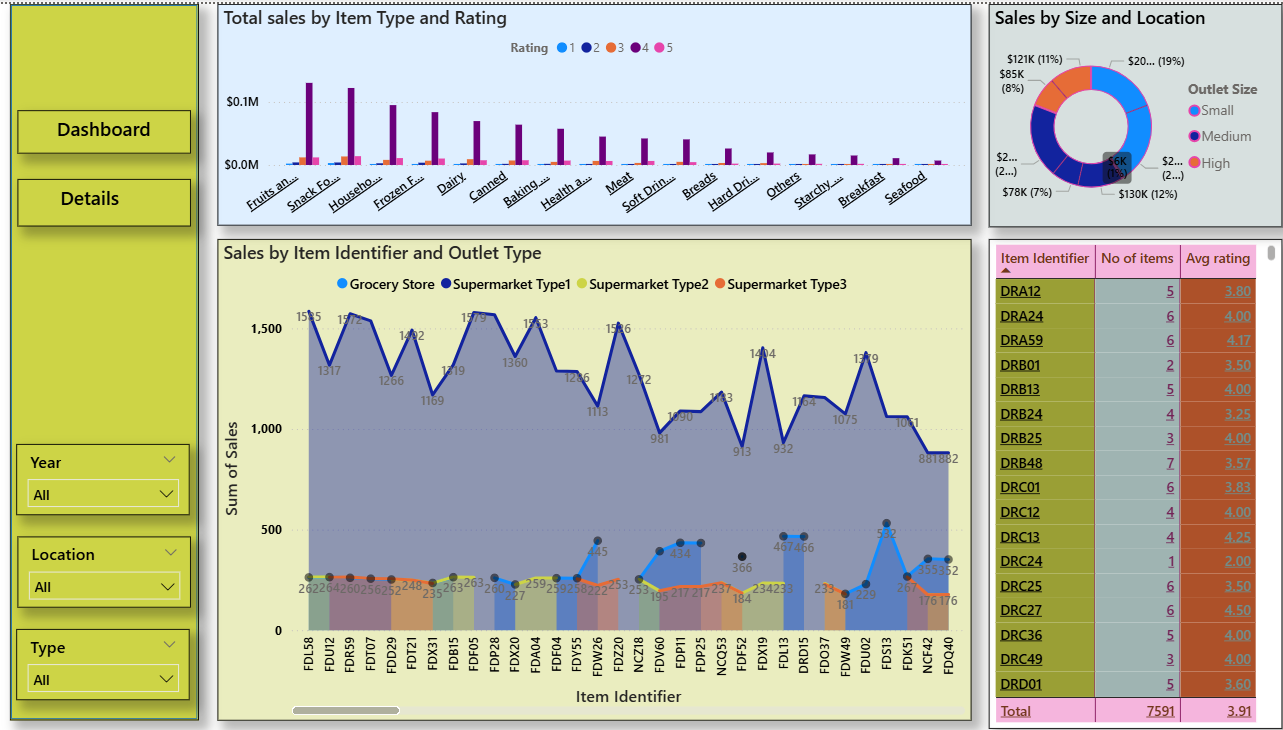

Layout of this report page (visuals, bound fields, positions):
{"tool":"powerbi","page":{"name":"Page 2","canvas":[1280,720],"ordinal":1},"visuals":[{"type":"shape","box":[9.8,0,184.6,700.7],"z":0},{"type":"clusteredColumnChart","fields":{"Y":["blinkit.Total sales"],"Category":["blinkit.Item Type"],"Series":["blinkit.Rating"]},"box":[213,0,737.7,216.9],"z":6000},{"type":"areaChart","title":" Sales by Item Identifier and Outlet Type","fields":{"Y":["Sum(blinkit.Sales)"],"Category":["blinkit.Item Identifier"],"Series":["blinkit.Outlet Type"]},"box":[213,229.9,737.7,471.4],"z":7000},{"type":"donutChart","title":"Sales by Size and  Location ","fields":{"Y":["blinkit.Total sales"],"Category":["blinkit.Outlet Size"],"Series":["blinkit.Outlet Location Type"]},"box":[967.5,0,287,218.2],"z":8000},{"type":"tableEx","fields":{"Values":["blinkit.Item Identifier","blinkit.blinkit no of items","blinkit.blinkit Avg rating"]},"box":[967.5,229.9,287,479.2],"z":9000},{"type":"textbox","box":[16.7,103.8,169.2,42.3],"z":11000},{"type":"textbox","box":[16.7,171.8,169.2,46.2],"z":12000},{"type":"slicer","fields":{"Values":["blinkit.Outlet Establishment Year"]},"box":[15.9,430.4,170,69.7],"z":14000},{"type":"slicer","fields":{"Values":["blinkit.Outlet Location Type"]},"box":[17.1,520.9,170,69.7],"z":15000},{"type":"slicer","fields":{"Values":["blinkit.Outlet Type"]},"box":[15.9,611.4,170,69.7],"z":16000}]}

Visuals, with their boxes in screenshot pixels (x1, y1, x2, y2), scaled from the page's 1280x720 canvas onto the 1283x730 screenshot:
shape: box=[10, 0, 195, 710]
clusteredColumnChart - blinkit.Total sales x blinkit.Item Type: box=[213, 0, 953, 220]
" Sales by Item Identifier and Outlet Type" areaChart: box=[213, 233, 953, 711]
"Sales by Size and  Location " donutChart: box=[970, 0, 1257, 221]
tableEx - blinkit.Item Identifier x blinkit.blinkit no of items: box=[970, 233, 1257, 719]
textbox: box=[17, 105, 186, 148]
textbox: box=[17, 174, 186, 221]
slicer - blinkit.Outlet Establishment Year: box=[16, 436, 186, 507]
slicer - blinkit.Outlet Location Type: box=[17, 528, 188, 599]
slicer - blinkit.Outlet Type: box=[16, 620, 186, 691]
